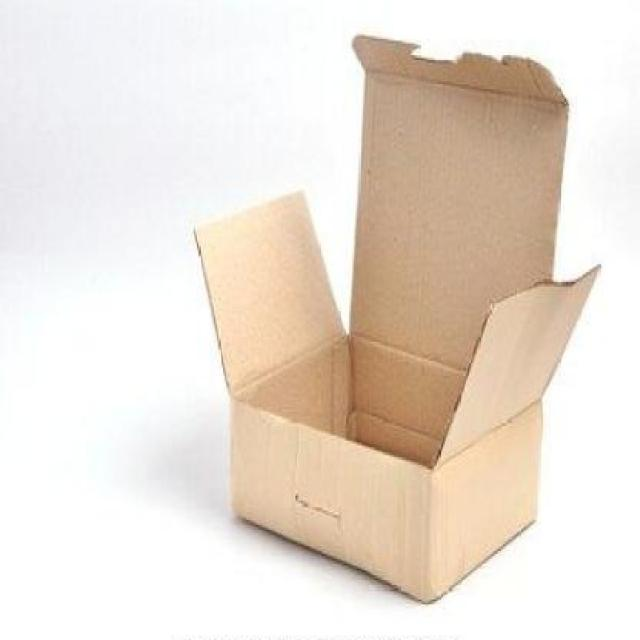box: (194, 16, 609, 614)
